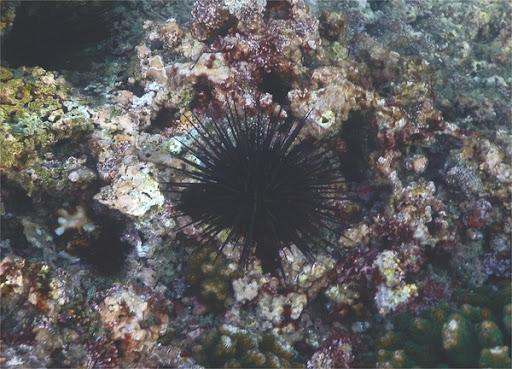urchin: (154, 90, 364, 285)
